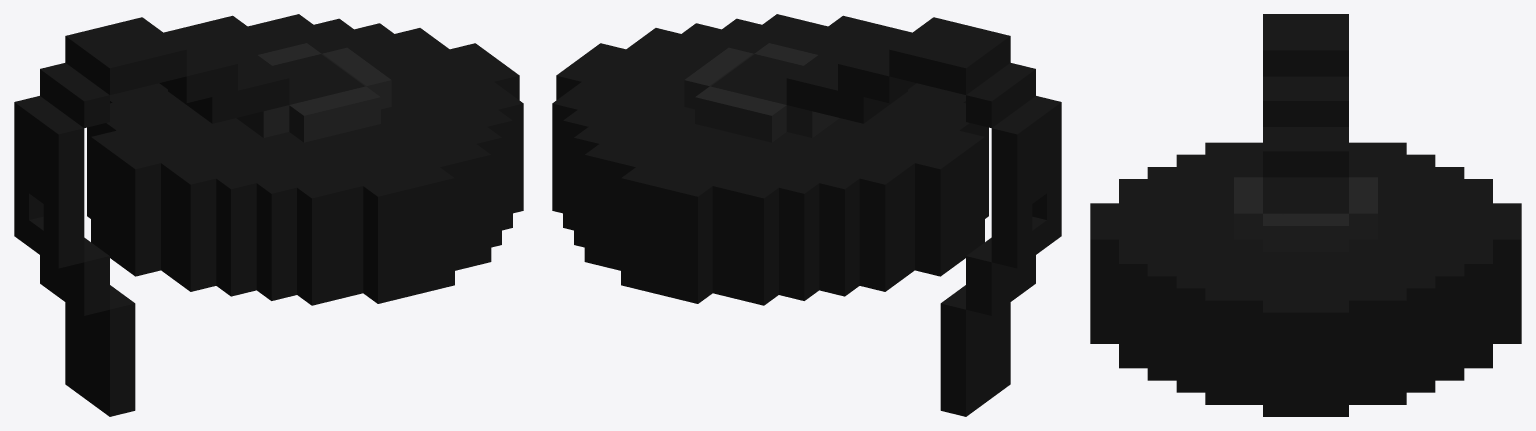
The model's file is Matrix_1.fbx.
3 renders of one model, left to right at view 1: azimuth 30°, elevation 25°; view 2: azimuth 150°, elevation 25°; view 3: azimuth 270°, elevation 25°, orthographic. The views are drawn at different scales.
Visible parts, largest first — view 1: Matrix_1; view 2: Matrix_1; view 3: Matrix_1.
Boxes of the visible parts, box(x1,y1,x2,y2) form: Matrix_1: box(14, 14, 523, 416); Matrix_1: box(552, 14, 1061, 416); Matrix_1: box(1090, 14, 1521, 416).
Size of the model in its own units: 18 by 13 by 15.
Materials: 1 (1 with a texture image).
